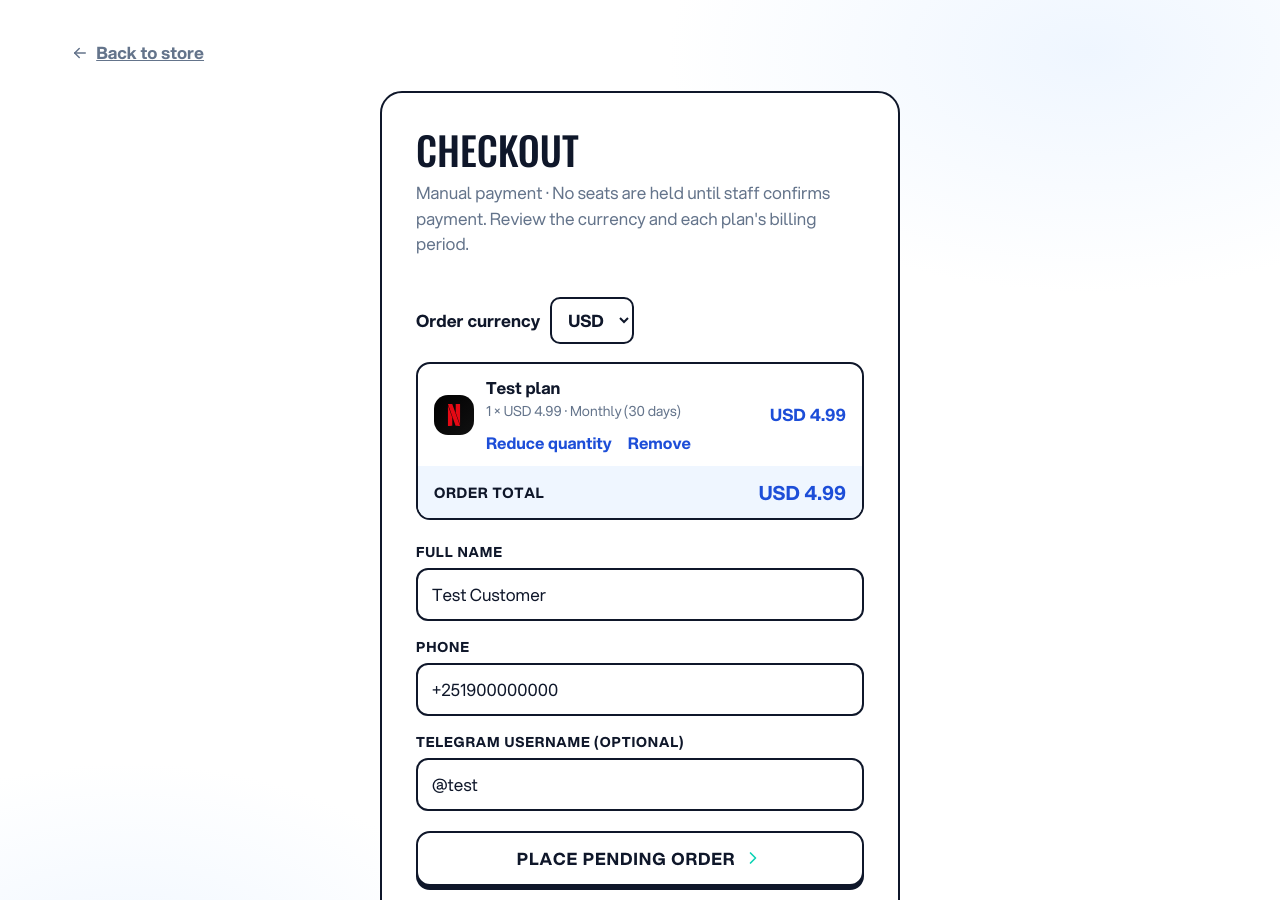
Scenario: durable, idempotent checkout › only unlocks a definitively rejected transaction for explicit quote review
Click the button "Place pending order" at (640, 858), box [416,830,864,886]
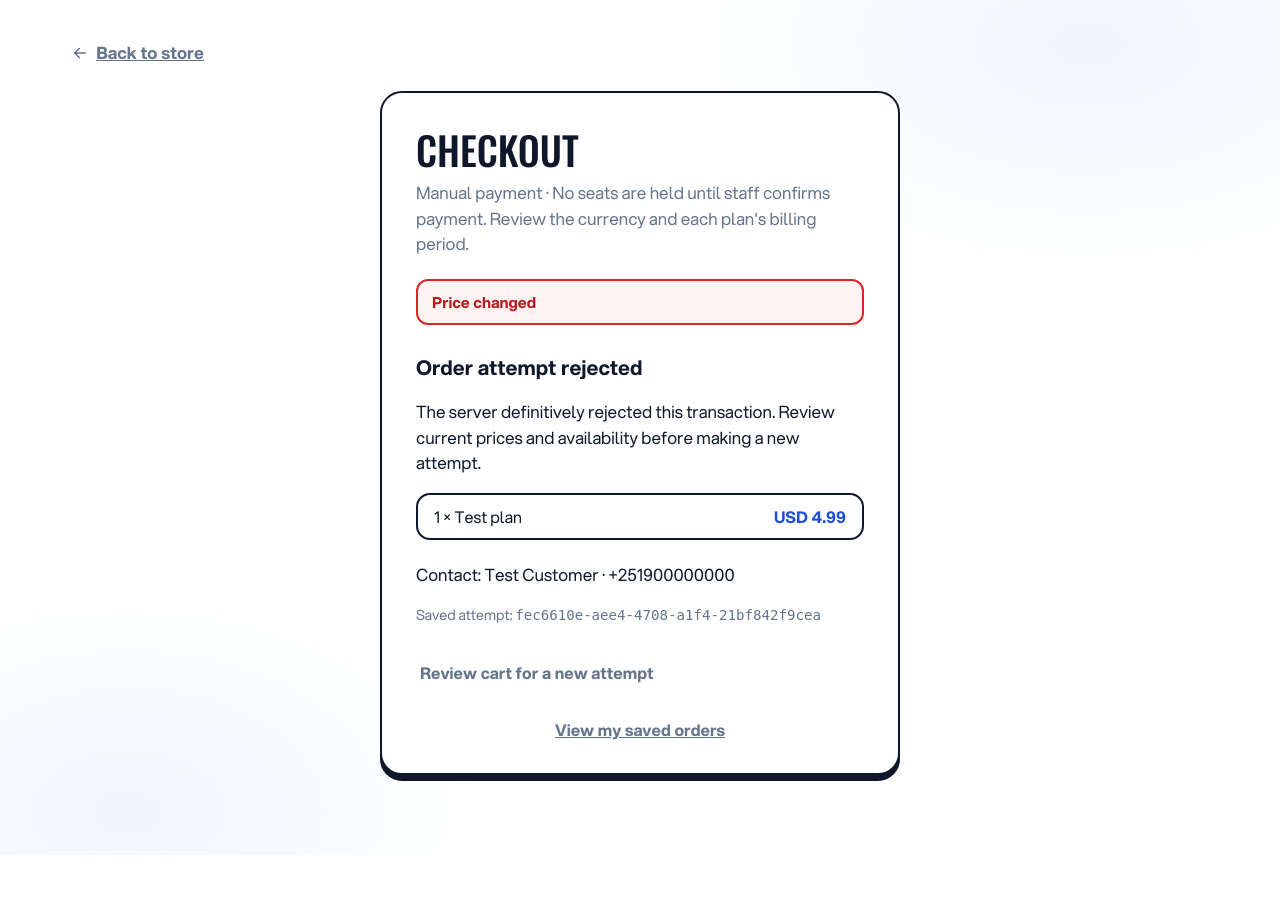
expect the button "Review cart for a new attempt" is shown: met, box [416,659,658,686]
